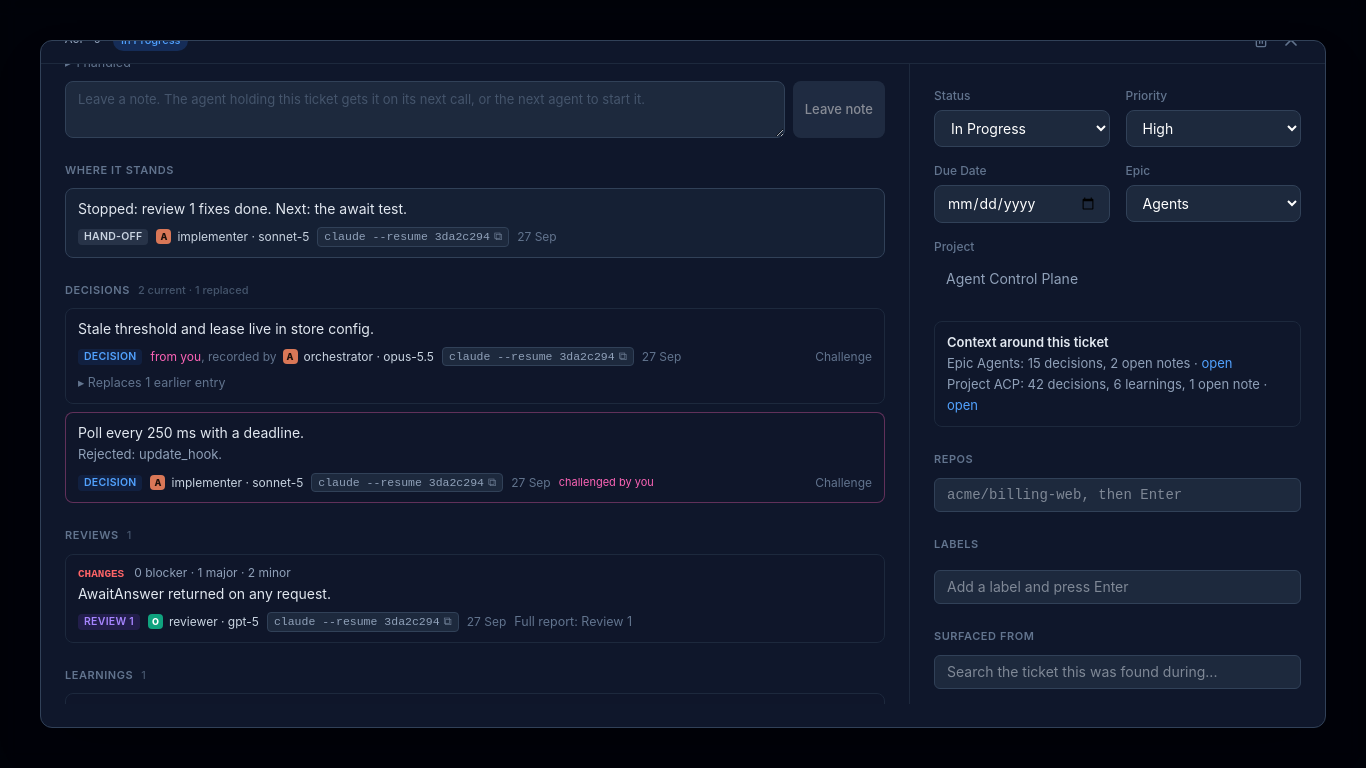
Test: the ticket page's entries › tucks a replaced entry under the one that replaced it, struck through when opened
(page scrolled)
Expected: the text "The stale threshold is a server flag." is not shown
What coordinates should you click on to do the following:
click the button "▸ Replaces 1 earlier entry"
I would click on:
 (152, 384)
Its box is [78,374,225,393].
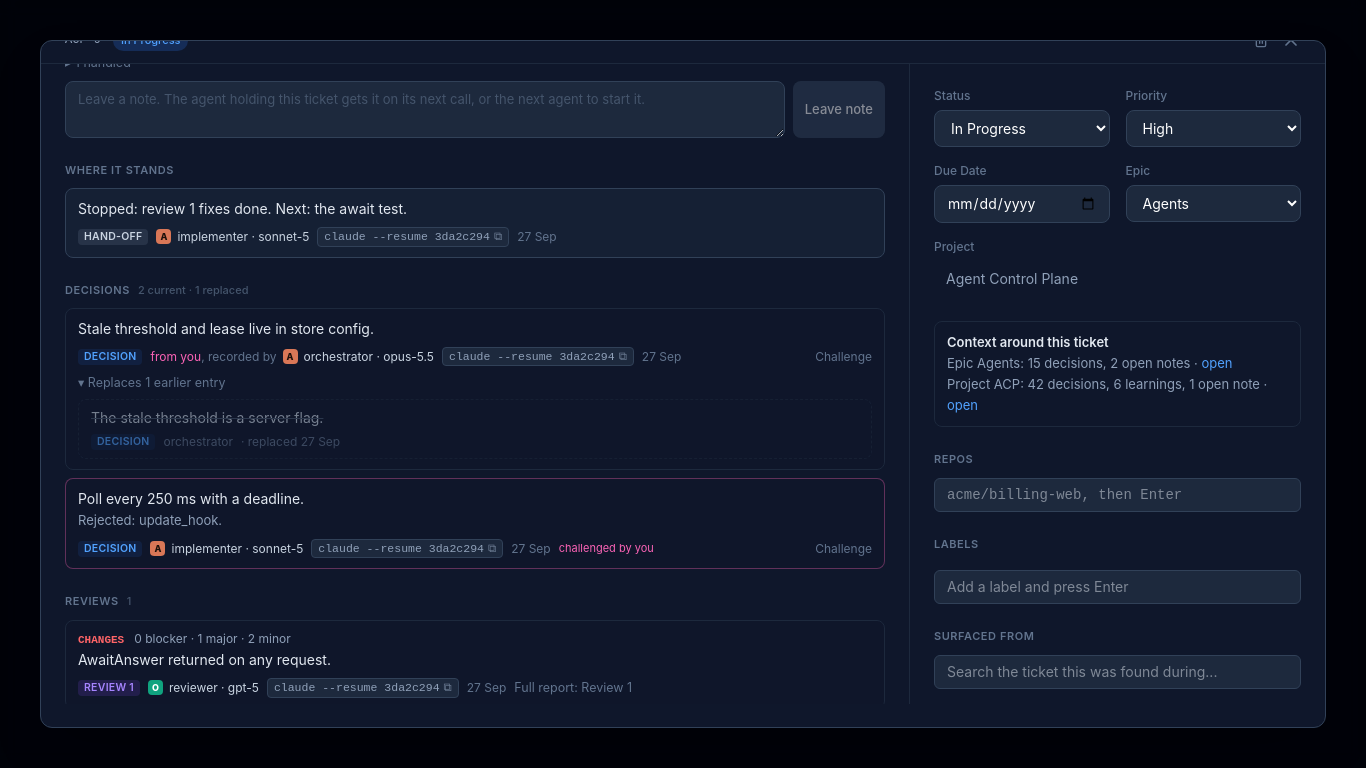
Expected: the button "▾ Replaces 1 earlier entry" is expanded, [78,374,225,393]
